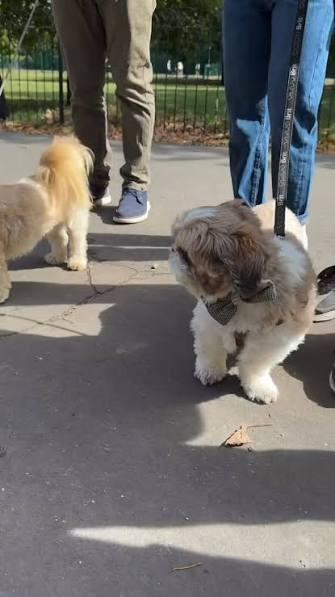adult_dog: (166, 198, 320, 405), (0, 137, 96, 304)
non-dog: (222, 0, 335, 224), (50, 0, 159, 225)
